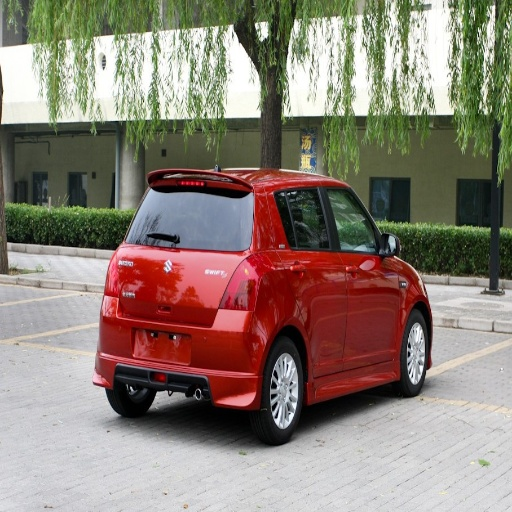back_bumper: (94, 309, 265, 404)
back_right_door: (276, 182, 347, 381)
trunk: (113, 247, 245, 357), (229, 305, 280, 371)
